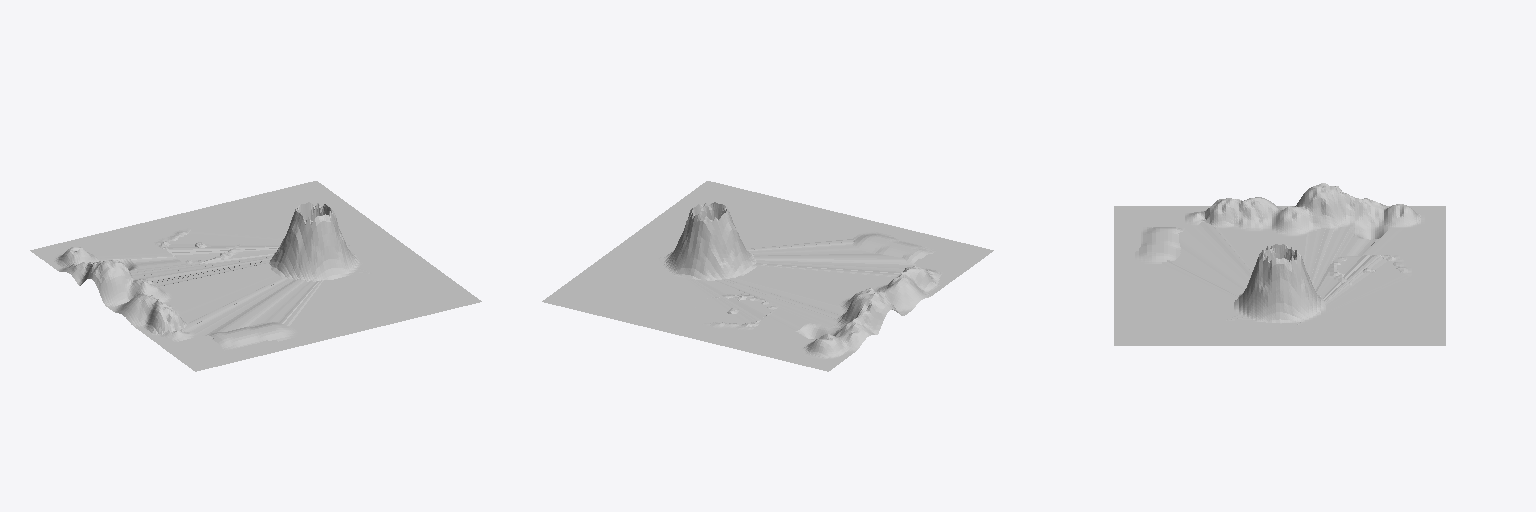
The model's file is TerrainVer0.obj.
3 renders of one model, left to right at view 1: azimuth 30°, elevation 25°; view 2: azimuth 150°, elevation 25°; view 3: azimuth 270°, elevation 25°, orthographic.
Parts seen in each view (by area): view 1: Grid; view 2: Grid; view 3: Grid.
Boxes of the visible parts, x1=… form: Grid: x1=30, y1=181, x2=481, y2=371; Grid: x1=542, y1=181, x2=993, y2=371; Grid: x1=1114, y1=183, x2=1445, y2=345.
Size of the model in its own units: 40 by 8.78 by 40.